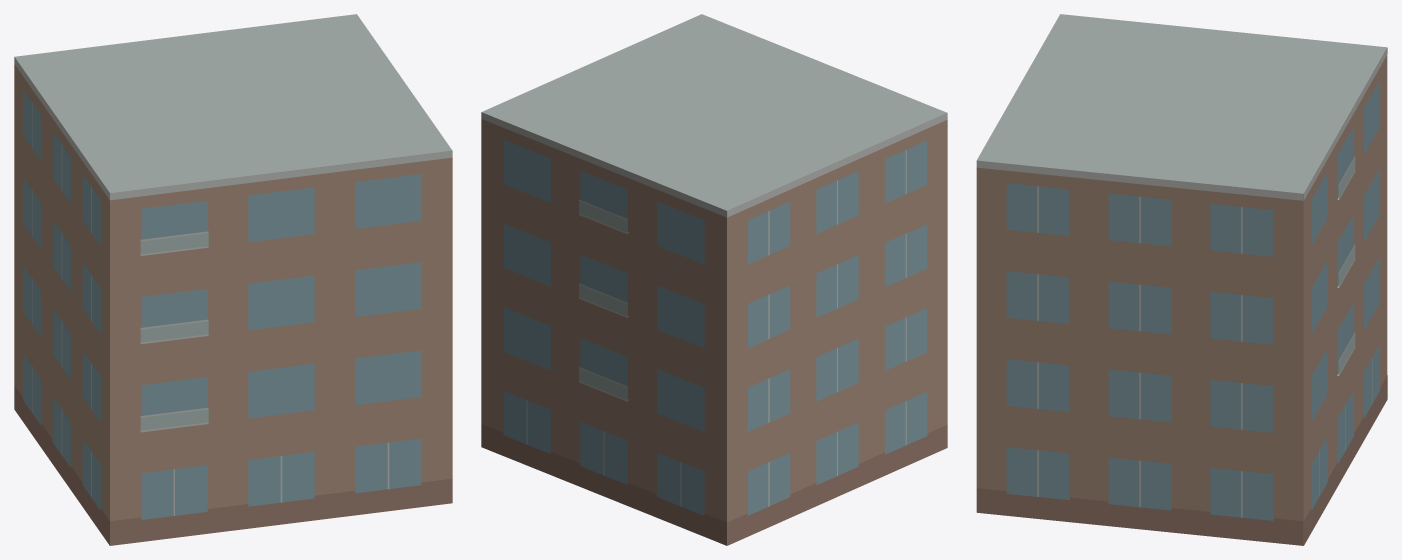
File: residential-3fbe6e20-c38b-4443-9e62-569ad56a359d.glb
3 views of the same model, side by side, from view 1: azimuth 30°, elevation 25°; view 2: azimuth 150°, elevation 25°; view 3: azimuth 270°, elevation 25° (orthographic). The views are drawn at different scales.
Parts seen in each view (by area): view 1: residential-3fbe6e20-c38b-4443-9e62-569ad56a359d.tmp; view 2: residential-3fbe6e20-c38b-4443-9e62-569ad56a359d.tmp; view 3: residential-3fbe6e20-c38b-4443-9e62-569ad56a359d.tmp.
Part boxes in pixels (x1=…): residential-3fbe6e20-c38b-4443-9e62-569ad56a359d.tmp: x1=14, y1=14, x2=452, y2=545; residential-3fbe6e20-c38b-4443-9e62-569ad56a359d.tmp: x1=481, y1=14, x2=947, y2=545; residential-3fbe6e20-c38b-4443-9e62-569ad56a359d.tmp: x1=976, y1=14, x2=1387, y2=545.
Bounding box in the file's own units: 13.37 × 12.2 × 12.91.
